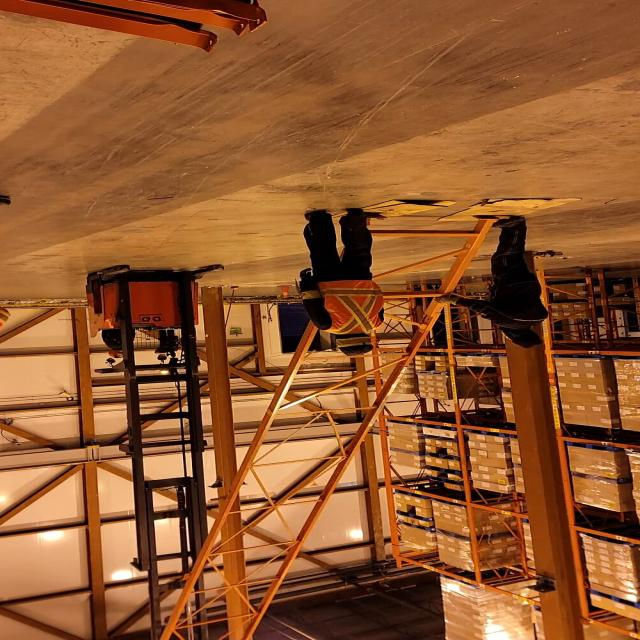forklift: (80, 262, 228, 456)
human: (432, 214, 554, 353), (288, 206, 382, 360), (0, 189, 20, 369), (90, 327, 151, 361)
objectofinterest: (155, 214, 508, 636), (437, 194, 582, 223), (322, 198, 458, 224)
